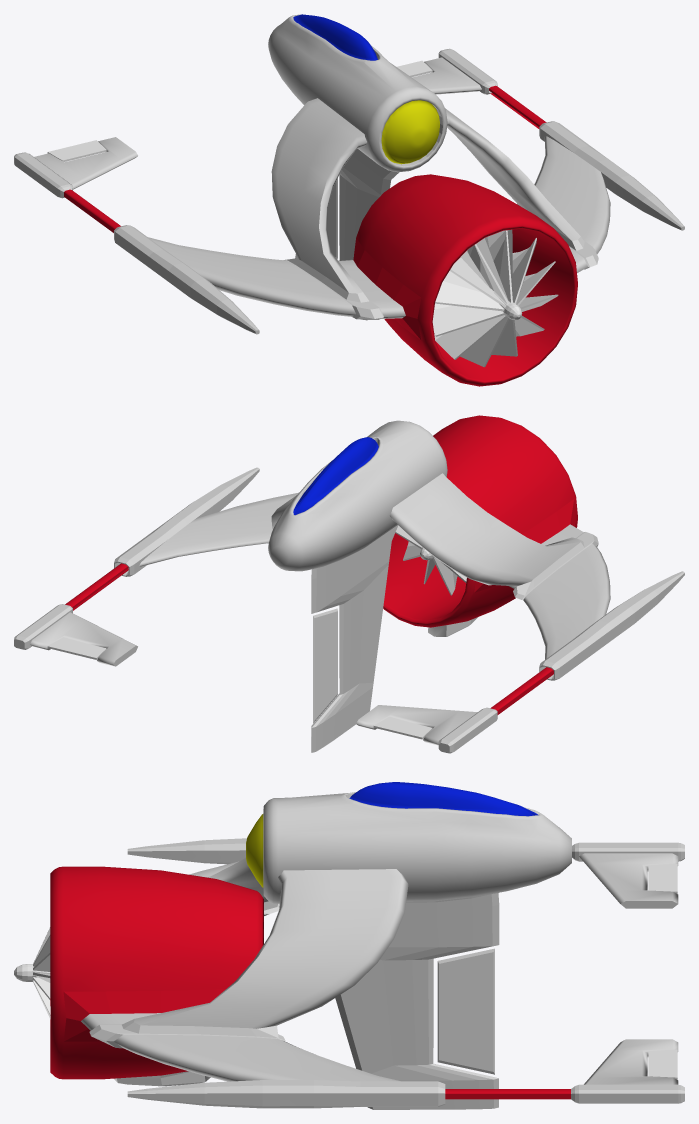
The picture shows the model from 3 angles, top to bottom: view 1: azimuth 30°, elevation 25°; view 2: azimuth 150°, elevation 25°; view 3: azimuth 270°, elevation 25°; orthographic projection. The views are drawn at different scales.
Parts seen in each view (by area): view 1: Chassis, Hull, Propeller, ControlPlaneStbd, Plane; view 2: Chassis, Hull, Plane, Propeller, ControlPlaneStbd, ControlPlanePort; view 3: Chassis, Hull, Plane, Propeller, ControlPlanePort, ControlPlaneStbd.
Part boxes in pixels (left/top/right/bottom): Chassis: left=14, top=48, right=684, bottom=386; Hull: left=268, top=14, right=447, bottom=320; Propeller: left=432, top=229, right=558, bottom=367; ControlPlaneStbd: left=47, top=140, right=106, bottom=161; Plane: left=327, top=178, right=337, bottom=259; Chassis: left=14, top=415, right=684, bottom=753; Hull: left=268, top=420, right=447, bottom=752; Plane: left=313, top=608, right=337, bottom=723; Propeller: left=395, top=525, right=466, bottom=595; ControlPlaneStbd: left=373, top=717, right=432, bottom=739; ControlPlanePort: left=47, top=637, right=106, bottom=659; Chassis: left=50, top=838, right=684, bottom=1108; Hull: left=246, top=782, right=571, bottom=1109; Plane: left=437, top=948, right=494, bottom=1074; Propeller: left=14, top=927, right=50, bottom=1018; ControlPlanePort: left=648, top=1049, right=677, bottom=1079; ControlPlaneStbd: left=648, top=864, right=677, bottom=893.
Size of the model in its own units: 562 by 335 by 628.
